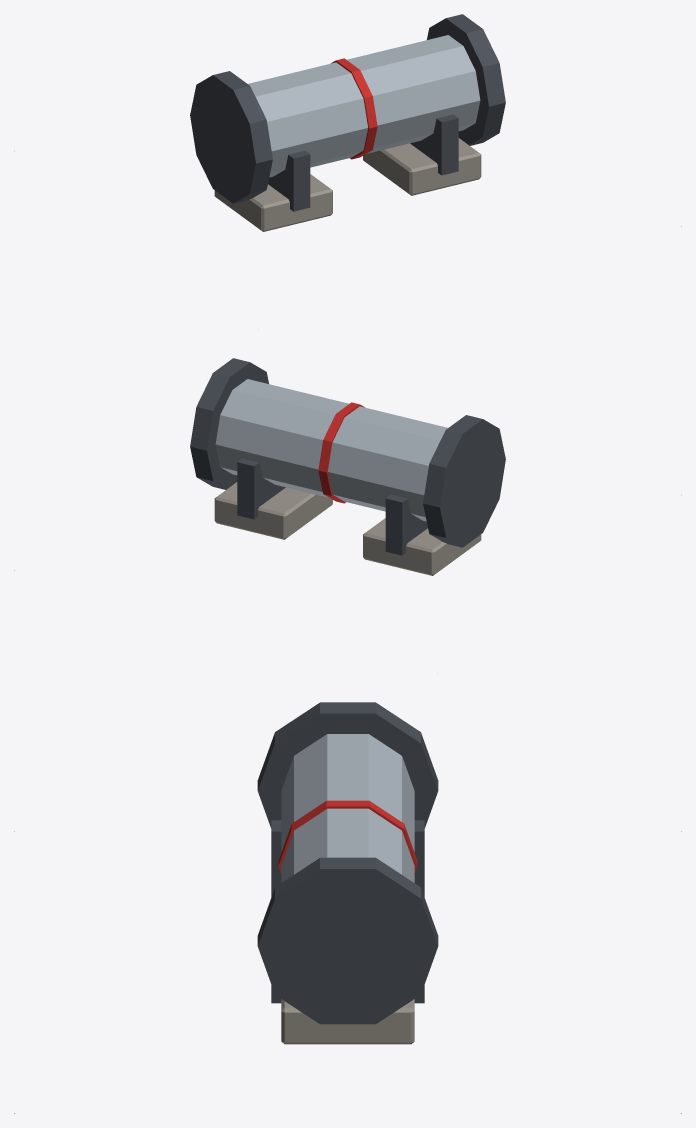
Rendered from tuyau_seul_t3.glb.
3 renders of one model, top to bottom at view 1: azimuth 30°, elevation 25°; view 2: azimuth 150°, elevation 25°; view 3: azimuth 270°, elevation 25°, orthographic. The views are drawn at different scales.
Parts seen in each view (by area): view 1: pieces_inox.014, pieces_acier_sombre.044, pieces_beton.044, pieces_rive_t3.014; view 2: pieces_inox.014, pieces_acier_sombre.044, pieces_beton.044, pieces_rive_t3.014; view 3: pieces_acier_sombre.044, pieces_inox.014, pieces_beton.044, pieces_rive_t3.014.
Boxes of the visible parts, bbox=[...] form: pieces_inox.014: bbox=[248, 35, 480, 177]; pieces_acier_sombre.044: bbox=[190, 14, 505, 211]; pieces_beton.044: bbox=[214, 138, 481, 231]; pieces_rive_t3.014: bbox=[331, 58, 377, 159]; pieces_inox.014: bbox=[215, 379, 447, 521]; pieces_acier_sombre.044: bbox=[190, 358, 505, 555]; pieces_beton.044: bbox=[214, 482, 481, 575]; pieces_rive_t3.014: bbox=[318, 402, 364, 503]; pieces_acier_sombre.044: bbox=[257, 702, 438, 1024]; pieces_inox.014: bbox=[281, 734, 414, 882]; pieces_beton.044: bbox=[281, 999, 414, 1044]; pieces_rive_t3.014: bbox=[278, 800, 417, 873].
Size of the model in its own units: 1 by 0.3084 by 1.
